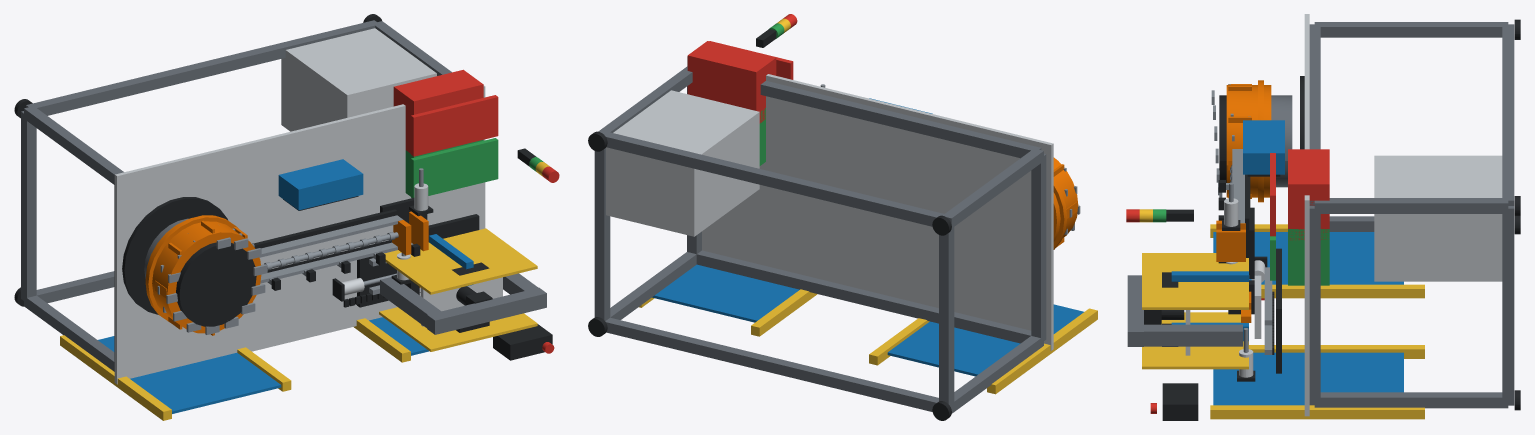
Rendered from automatic_feeding_inspection.glb.
3 views of the same model, side by side, from view 1: azimuth 30°, elevation 25°; view 2: azimuth 150°, elevation 25°; view 3: azimuth 270°, elevation 25° (orthographic). The views are drawn at different scales.
Visible parts, largest first — view 1: o1.17, o1.18, o1.171, o1.24, o1.2, o1.122, o1.164, o1.163, o1.20, o1.23, o1.133, o1.166 (+24 smaller); view 2: o1.17, o1.18, o1.2, o1.1, o1.5, o1.172, o1.166, o1.6, o1.171, o1.7, o1.3, o1.4 (+8 smaller); view 3: o1.18, o1.172, o1.122, o1.171, o1.13, o1.15, o1.121, o1.11, o1.170, o1.166, o1.4, o1.8 (+26 smaller).
Boxes of the visible parts, x1=… form: o1.17: x1=114, y1=85, x2=485, y2=384; o1.18: x1=281, y1=28, x2=436, y2=131; o1.171: x1=98, y1=336, x2=281, y2=413; o1.24: x1=176, y1=242, x2=256, y2=326; o1.2: x1=26, y1=20, x2=379, y2=115; o1.122: x1=384, y1=228, x2=537, y2=294; o1.164: x1=411, y1=95, x2=498, y2=156; o1.163: x1=411, y1=138, x2=498, y2=197; o1.20: x1=122, y1=197, x2=228, y2=314; o1.23: x1=145, y1=219, x2=261, y2=333; o1.133: x1=278, y1=159, x2=363, y2=210; o1.166: x1=393, y1=69, x2=483, y2=153; o1.17: x1=687, y1=56, x2=1053, y2=350; o1.18: x1=606, y1=90, x2=759, y2=236; o1.2: x1=603, y1=131, x2=948, y2=226; o1.1: x1=605, y1=317, x2=938, y2=411; o1.5: x1=696, y1=250, x2=1031, y2=343; o1.172: x1=652, y1=264, x2=799, y2=322; o1.166: x1=687, y1=41, x2=776, y2=123; o1.6: x1=760, y1=81, x2=1041, y2=158; o1.171: x1=887, y1=304, x2=1083, y2=376; o1.7: x1=1031, y1=154, x2=1046, y2=342; o1.3: x1=939, y1=224, x2=954, y2=408; o1.4: x1=594, y1=148, x2=610, y2=320; o1.18: x1=1374, y1=155, x2=1502, y2=281; o1.172: x1=1213, y1=352, x2=1403, y2=405; o1.122: x1=1142, y1=253, x2=1248, y2=309; o1.171: x1=1213, y1=232, x2=1403, y2=284; o1.13: x1=1314, y1=392, x2=1508, y2=408; o1.15: x1=1314, y1=198, x2=1508, y2=213; o1.121: x1=1142, y1=312, x2=1248, y2=369; o1.11: x1=1314, y1=22, x2=1508, y2=37; o1.170: x1=1210, y1=405, x2=1424, y2=419; o1.166: x1=1288, y1=149, x2=1329, y2=240; o1.4: x1=1502, y1=206, x2=1514, y2=402; o1.8: x1=1309, y1=206, x2=1320, y2=402.
Bounding box in the file's own units: 1.48 × 0.8625 × 1.32.
